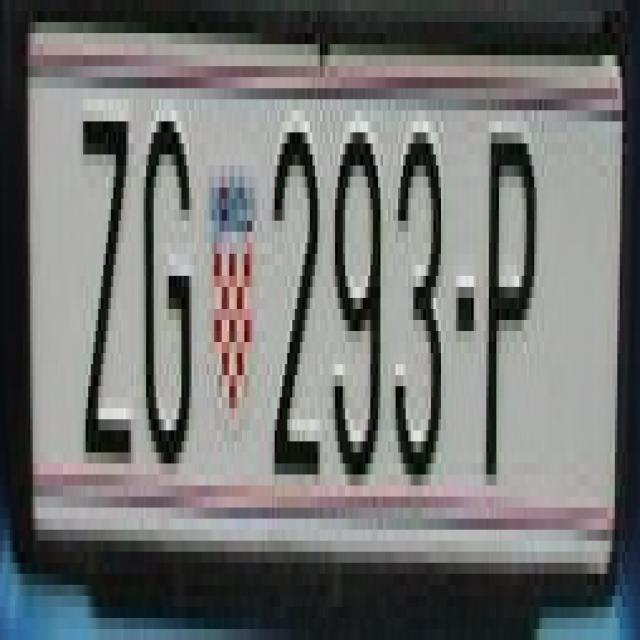2: (264, 110, 318, 486)
3: (396, 110, 444, 486)
9: (328, 122, 380, 486)
G: (141, 100, 192, 474)
P: (481, 110, 542, 486)
Z: (78, 100, 136, 474)
